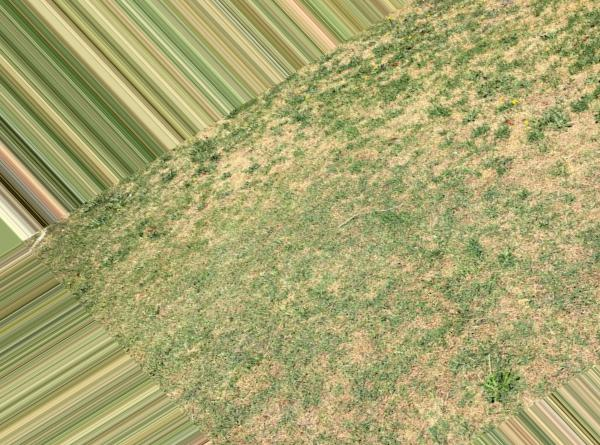patch: (503, 209, 573, 299), (524, 134, 600, 194), (396, 383, 449, 419), (447, 321, 500, 347), (268, 416, 311, 442)
